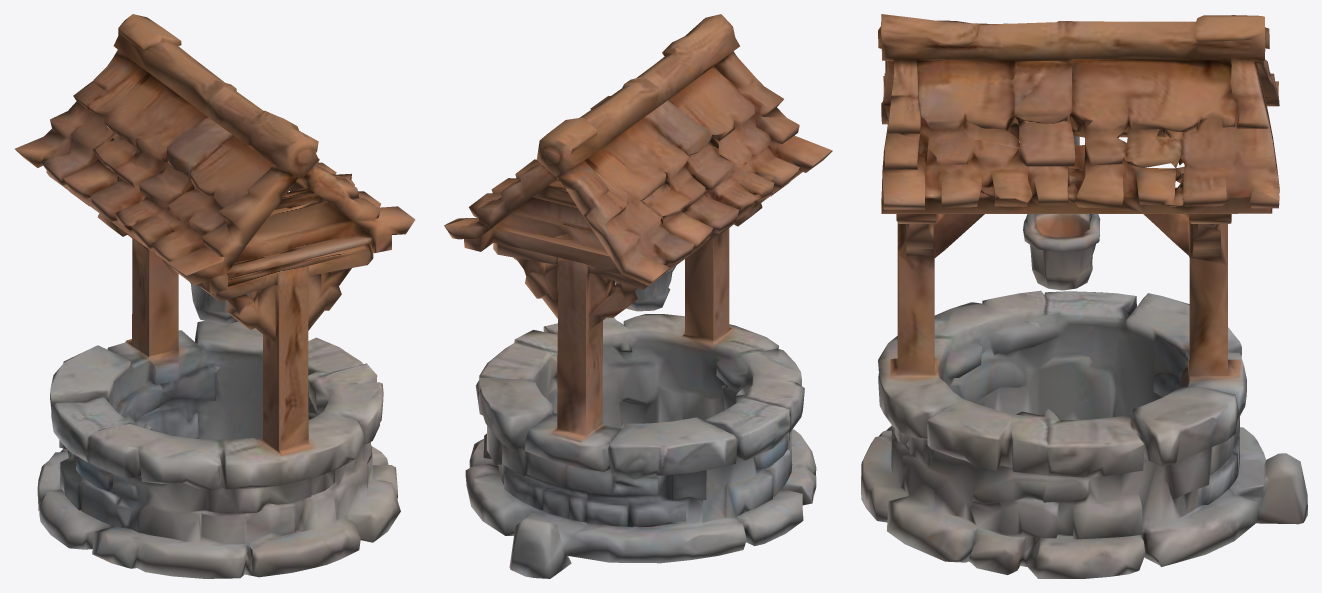
File: wishingwell.glb
3 views of the same model, side by side, from view 1: azimuth 30°, elevation 25°; view 2: azimuth 150°, elevation 25°; view 3: azimuth 270°, elevation 25° (orthographic). The views are drawn at different scales.
Parts seen in each view (by area): view 1: WishingwellBody; view 2: WishingwellBody; view 3: WishingwellBody.
Part boxes in pixels (left/top/right/bottom): WishingwellBody: left=15, top=14, right=415, bottom=578; WishingwellBody: left=444, top=14, right=832, bottom=578; WishingwellBody: left=861, top=14, right=1307, bottom=578.
Bounding box in the file's own units: 2.21 × 2.93 × 2.4.
Materials: 1 (1 with a texture image).
